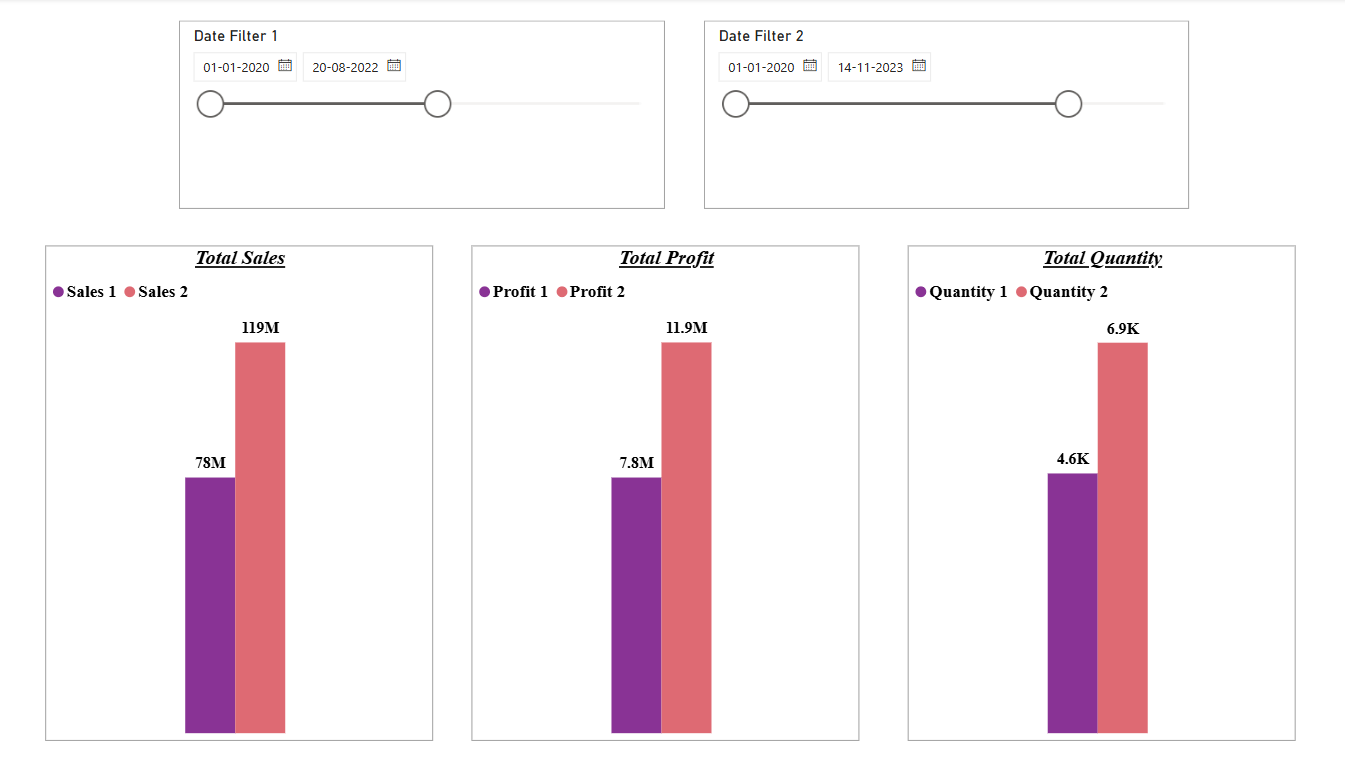

The dashboard page shown, as its layout file describes it:
{"tool":"powerbi","page":{"name":"Comprision Sales/profit/Quantity","canvas":[1280,720],"ordinal":2},"visuals":[{"type":"slicer","fields":{"Values":["Date Table 1.Date"]},"box":[178.4,0,451.5,175.6],"z":0},{"type":"slicer","fields":{"Values":["Date Table 2.Date"]},"box":[651.2,0,451.2,175.6],"z":1000},{"type":"clusteredColumnChart","title":"Total Sales","fields":{"Y":["Sum(Fact Table.Net Sales)","Date Table 1.Sum of Net Sales"]},"box":[52.1,230.5,360.9,461.1],"z":2000},{"type":"clusteredColumnChart","title":"Total Profit","fields":{"Y":["Sum(Fact Table.Profit)","Measure Table.Total Profit"]},"box":[448.7,230.5,360.9,461.1],"z":3000},{"type":"clusteredColumnChart","title":"Total Quantity","fields":{"Y":["Sum(Fact Table.Units Sold)","Measure Table.Total Quantity"]},"box":[854.9,230.5,360.9,461.1],"z":4000}]}

Visuals, with their boxes in screenshot pixels (x1, y1, x2, y2), scaled from the page's 1280x720 canvas onto the 1345x764 screenshot:
slicer - Date Table 1.Date: bbox(187, 0, 662, 186)
slicer - Date Table 2.Date: bbox(684, 0, 1158, 186)
"Total Sales" clusteredColumnChart: bbox(55, 245, 434, 734)
"Total Profit" clusteredColumnChart: bbox(471, 245, 851, 734)
"Total Quantity" clusteredColumnChart: bbox(898, 245, 1278, 734)
